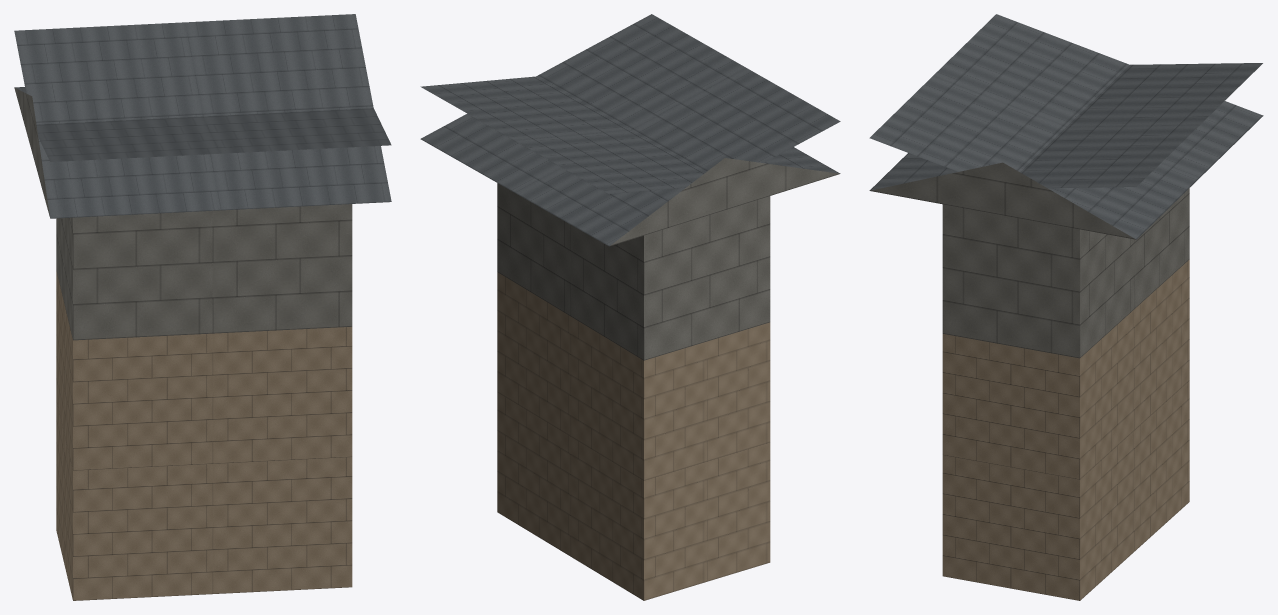
Rendered from bld_c8_9_492.gltf.
The picture shows the model from 3 angles, left to right: view 1: azimuth 30°, elevation 25°; view 2: azimuth 150°, elevation 25°; view 3: azimuth 270°, elevation 25°; orthographic projection. The views are drawn at different scales.
Visible parts, largest first — view 1: bld_c8_9_492; view 2: bld_c8_9_492; view 3: bld_c8_9_492.
Part boxes in pixels (x1,y1,x2,y2): bld_c8_9_492: [14, 14, 391, 600]; bld_c8_9_492: [420, 14, 840, 600]; bld_c8_9_492: [869, 14, 1263, 600].
Bounding box in the file's own units: 7.03 × 8.3 × 6.77.
4 materials, 4 textured.
